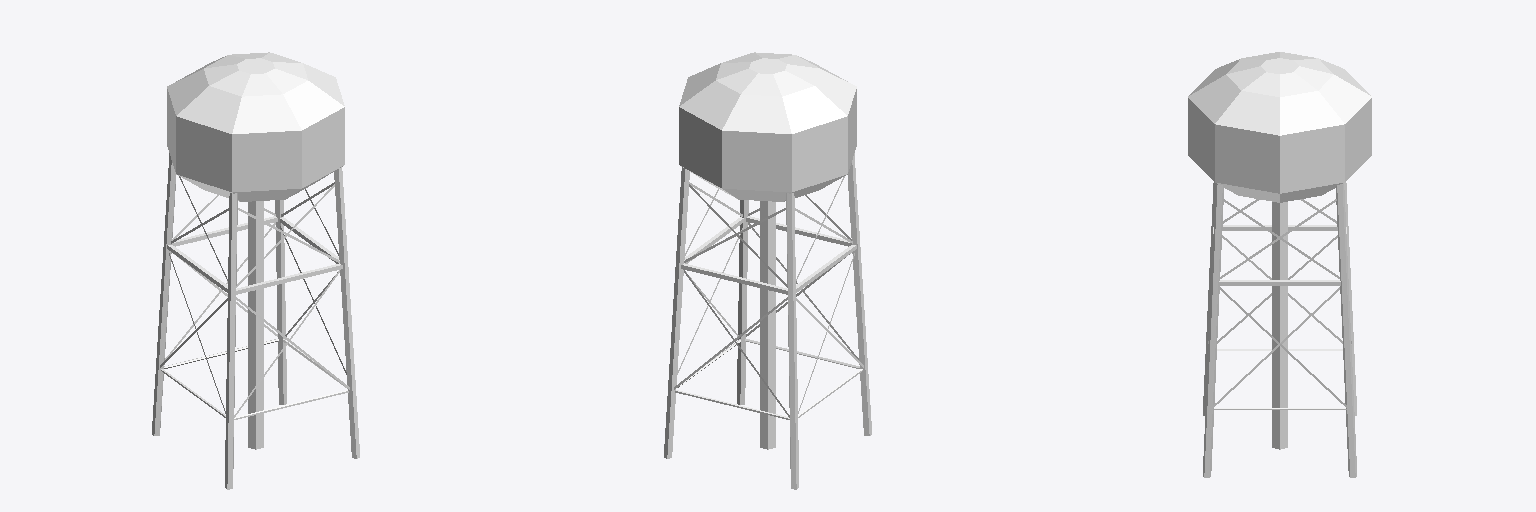
The model's file is watertower.obj.
3 views of the same model, side by side, from view 1: azimuth 30°, elevation 25°; view 2: azimuth 150°, elevation 25°; view 3: azimuth 270°, elevation 25° (orthographic).
Visible parts, largest first — view 1: Frame1_watertower; view 2: Frame1_watertower; view 3: Frame1_watertower.
Part boxes in pixels (x1,y1,x2,y2): Frame1_watertower: (152, 52, 359, 489); Frame1_watertower: (664, 52, 871, 489); Frame1_watertower: (1188, 52, 1371, 477).
Size of the model in its own units: 6.16 by 13.98 by 6.16.